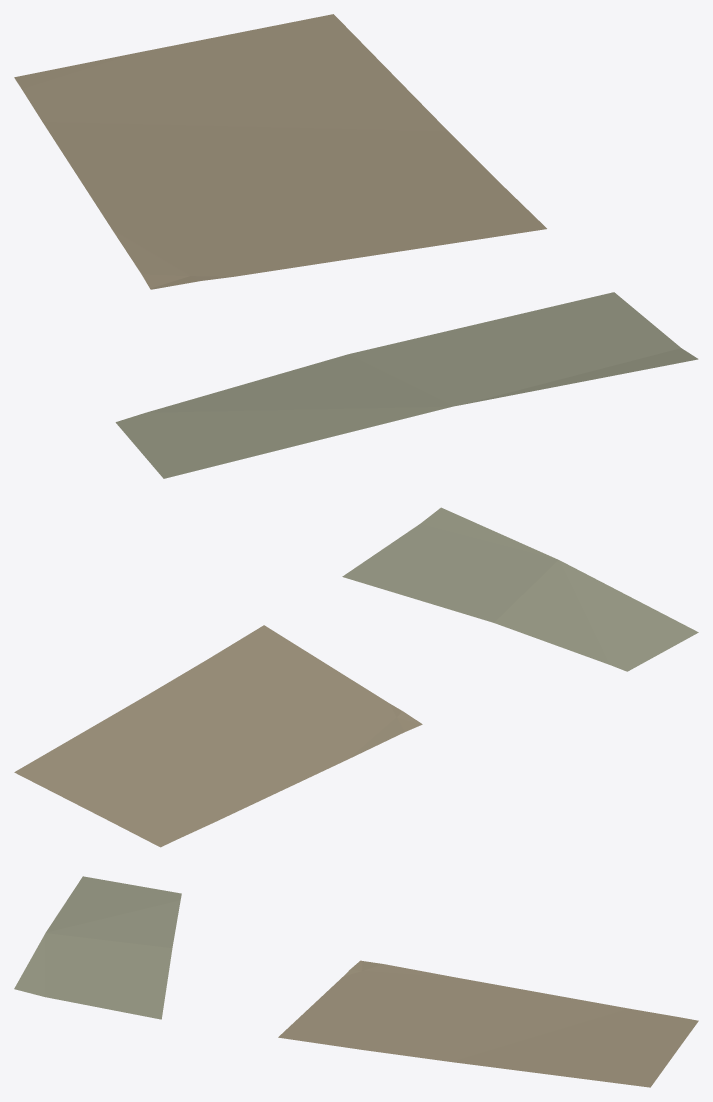
File: farm_-8_-8_soil.glb
3 renders of one model, top to bottom at view 1: azimuth 30°, elevation 25°; view 2: azimuth 150°, elevation 25°; view 3: azimuth 270°, elevation 25°, orthographic. The views are drawn at different scales.
Parts seen in each view (by area): view 1: geometry_0; view 2: geometry_0; view 3: geometry_0.
Part boxes in pixels (x1,y1,x2,y2): geometry_0: (14, 14, 698, 478); geometry_0: (14, 507, 698, 847); geometry_0: (14, 876, 698, 1087).
Size of the model in its own units: 112 by 18.05 by 172.
